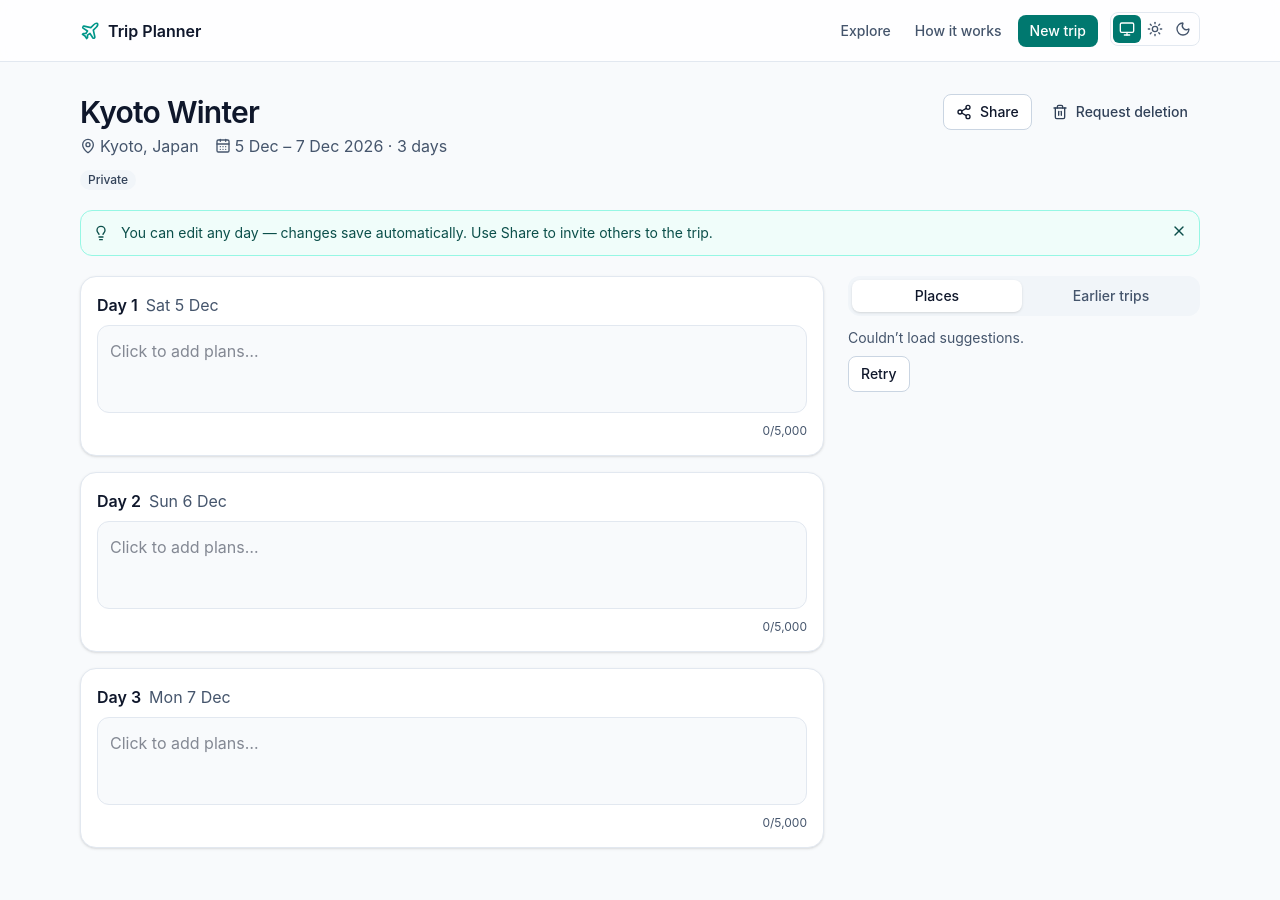
Test case: TripPage — share links › never shows the organiser link to editors (AC2.8)
Click the button "Share" at point(987, 112), box [943, 94, 1032, 130]
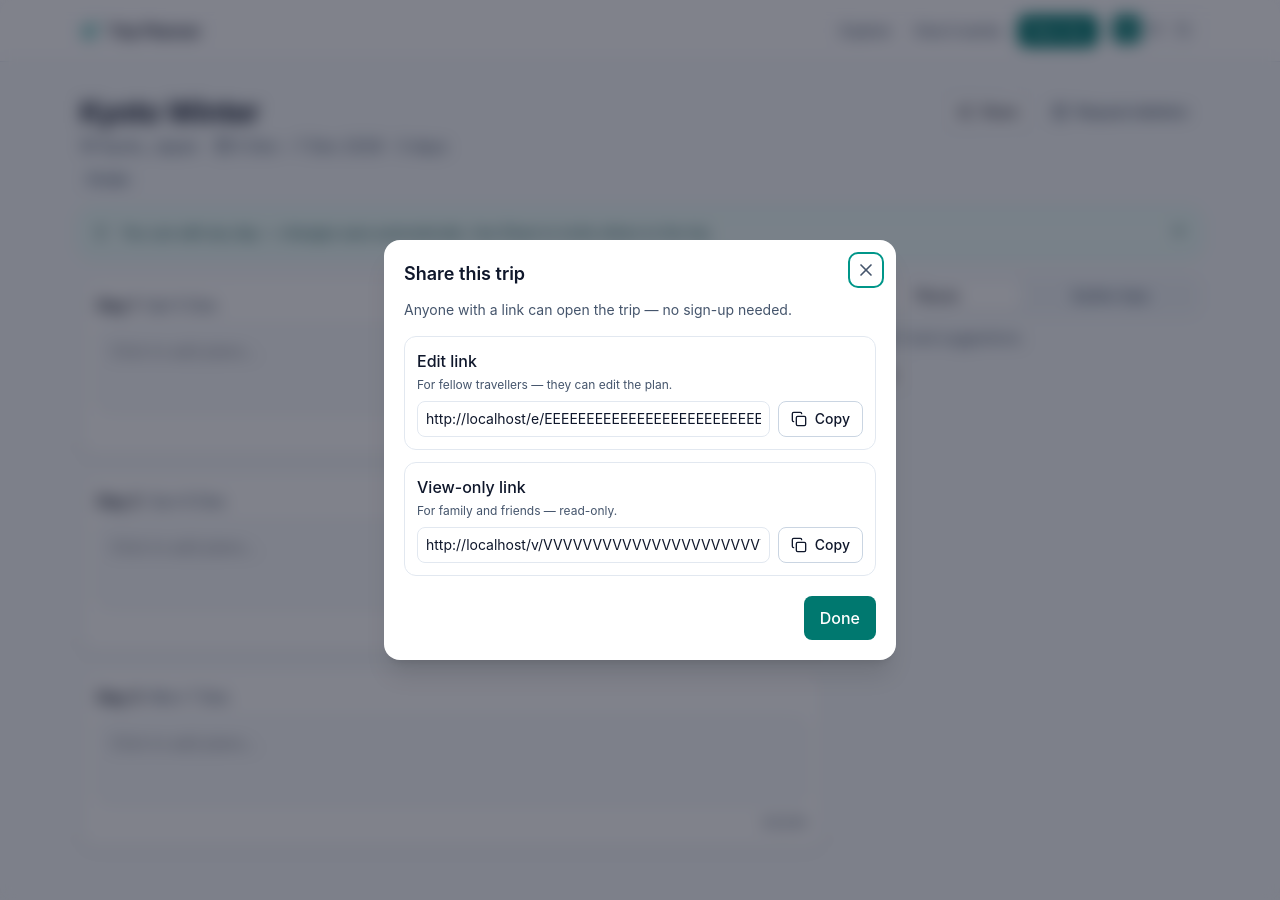
Expected: the number of fields is 2, [417, 401, 770, 437]; [417, 527, 770, 563]
